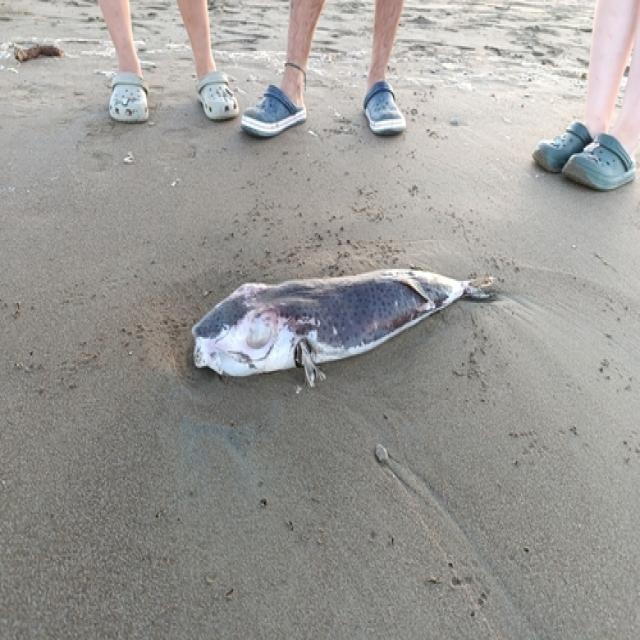Balik: (192, 269, 491, 386)
